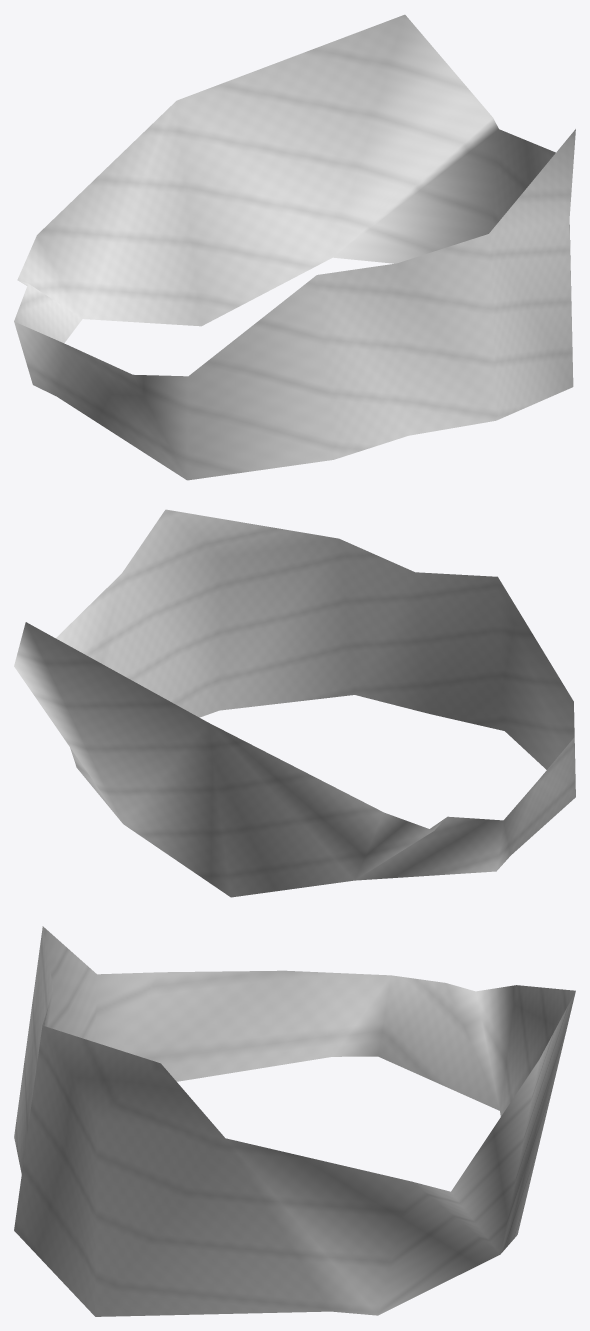
The model's file is Chestwrap.glb.
The picture shows the model from 3 angles, top to bottom: view 1: azimuth 30°, elevation 25°; view 2: azimuth 150°, elevation 25°; view 3: azimuth 270°, elevation 25°; orthographic projection. The views are drawn at different scales.
Parts seen in each view (by area): view 1: Chestwrap; view 2: Chestwrap; view 3: Chestwrap.
Boxes of the visible parts, x1=… form: Chestwrap: x1=14, y1=14, x2=575, y2=480; Chestwrap: x1=14, y1=509, x2=575, y2=897; Chestwrap: x1=14, y1=926, x2=575, y2=1316.
Size of the model in its own units: 4.58 by 2.21 by 3.76.
Materials: 1 (1 with a texture image).
